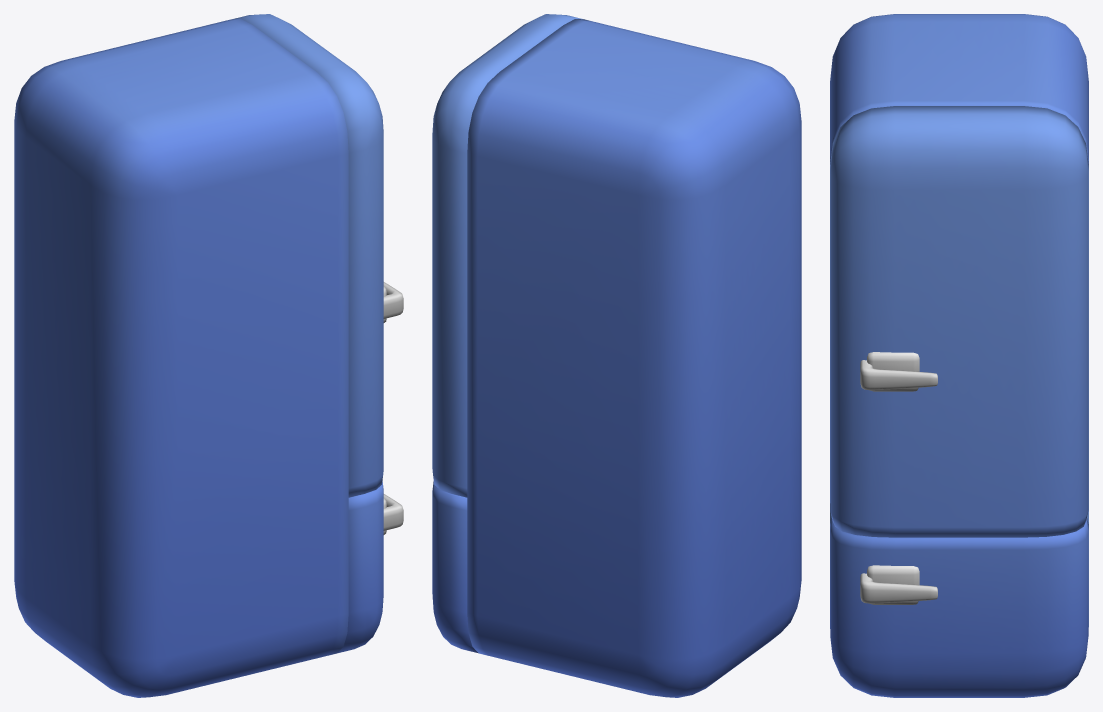
Rendered from Refrigerator02.FBX.
The picture shows the model from 3 angles, left to right: view 1: azimuth 30°, elevation 25°; view 2: azimuth 150°, elevation 25°; view 3: azimuth 270°, elevation 25°; orthographic projection.
Visible parts, largest first — view 1: Refrigerator02, Door_01, Door_02; view 2: Refrigerator02, Door_01, Door_02; view 3: Door_01, Door_02, Refrigerator02.
Boxes of the visible parts, bbox=[...] form: Refrigerator02: bbox=[14, 18, 348, 697]; Door_01: bbox=[234, 14, 403, 497]; Door_02: bbox=[337, 481, 403, 653]; Refrigerator02: bbox=[467, 19, 801, 697]; Door_01: bbox=[432, 14, 583, 497]; Door_02: bbox=[432, 481, 478, 653]; Door_01: bbox=[830, 106, 1088, 537]; Door_02: bbox=[830, 518, 1088, 697]; Refrigerator02: bbox=[830, 14, 1088, 626].
Bounding box in the file's own units: 65.92 × 121 × 48.9.
